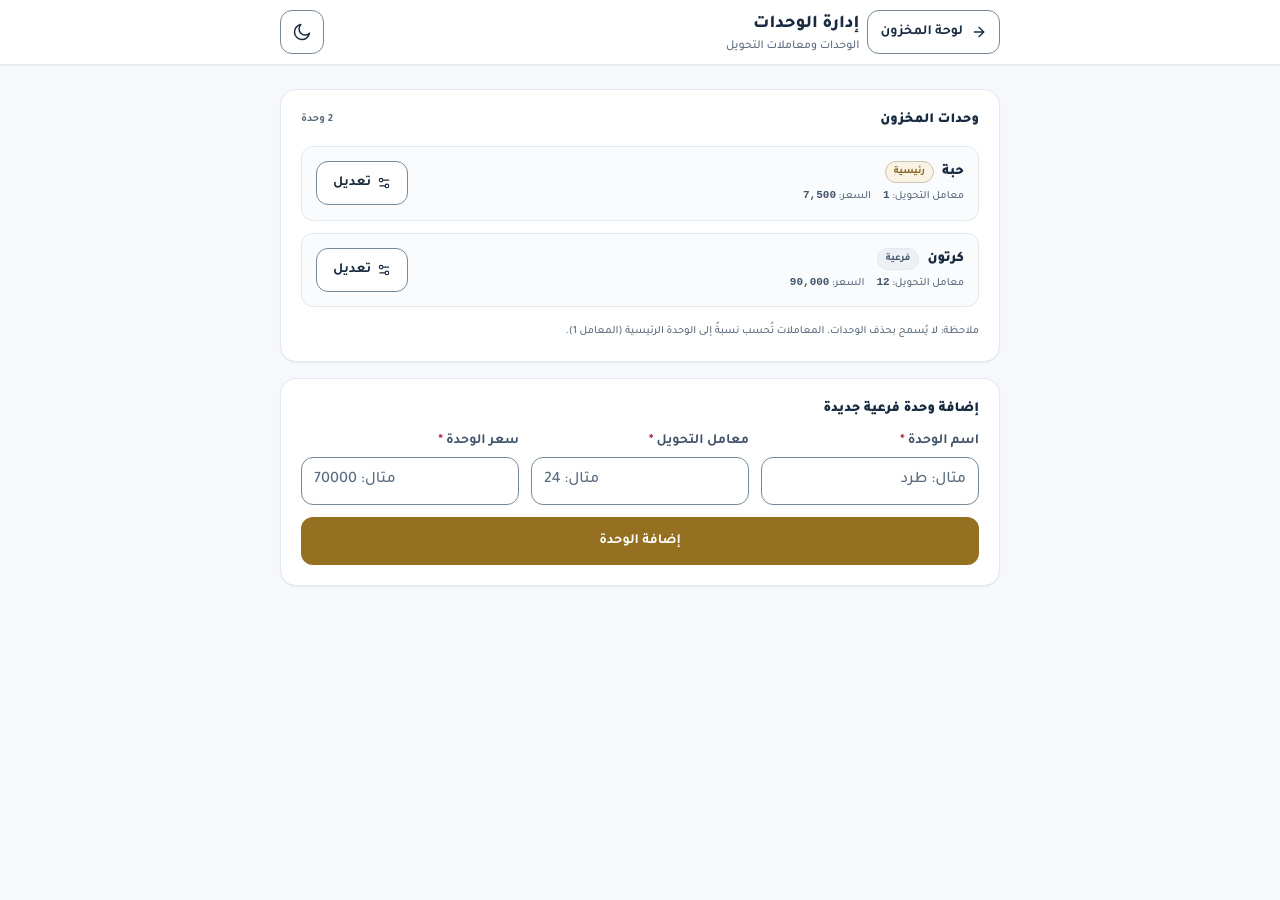
Test case: StockUnitsPage — إضافة وحدة فرعية › يعرض خطأ تكرار الاسم 1609 من الخادم
This screenshot has width=1280, height=900.
expect the heading "إضافة وحدة فرعية جديدة" is shown: met, box top-left (823, 402), bottom-right (979, 416)
Type "طرد" into the field with placeholder "مثال: طرد" at (870, 481), box top-left (761, 457), bottom-right (979, 505)
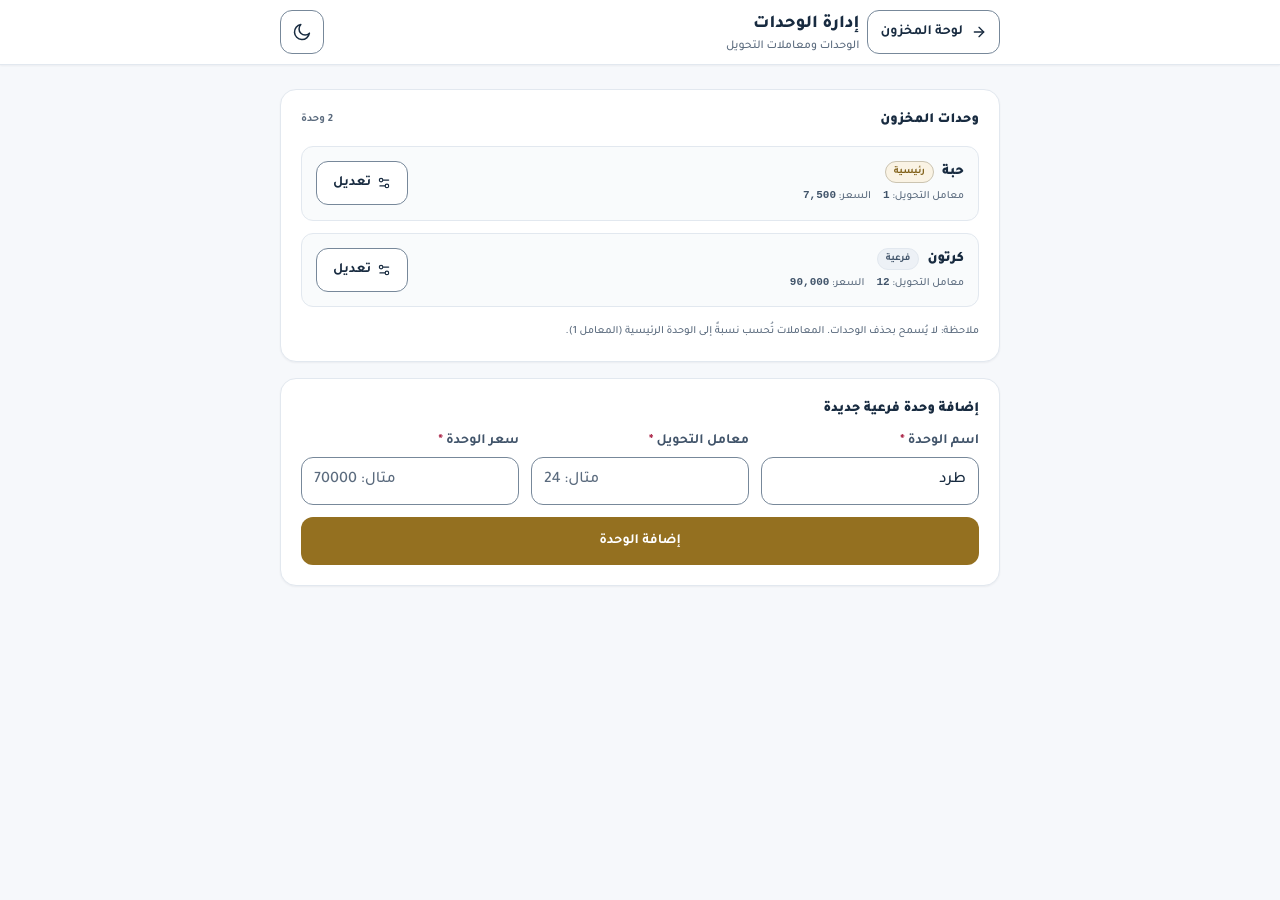
Type "24" into the field with placeholder "مثال: 24" at (640, 481), box top-left (531, 457), bottom-right (749, 505)
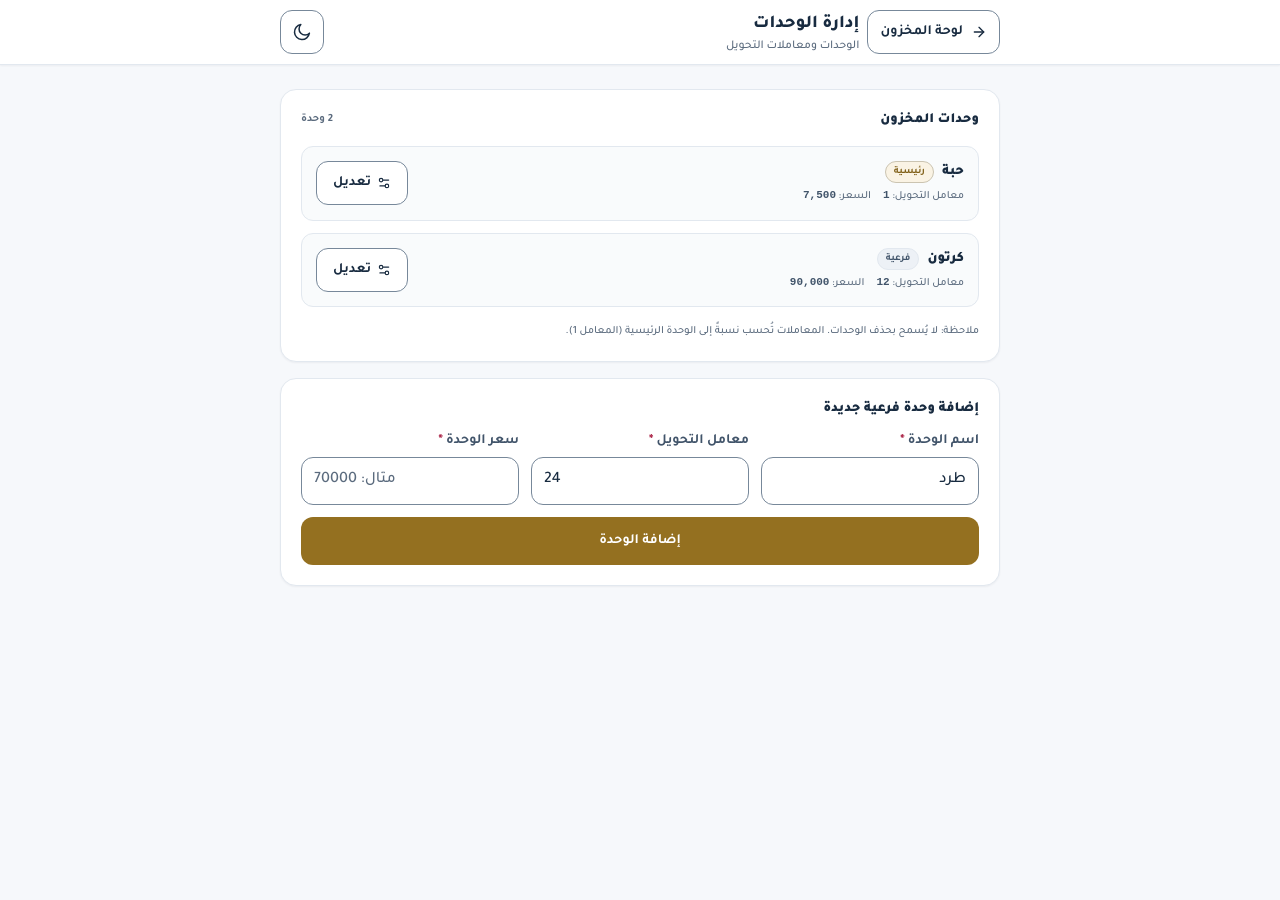
Type "150000" into the number field with placeholder "مثال: 70000" at (410, 481), box top-left (301, 457), bottom-right (519, 505)
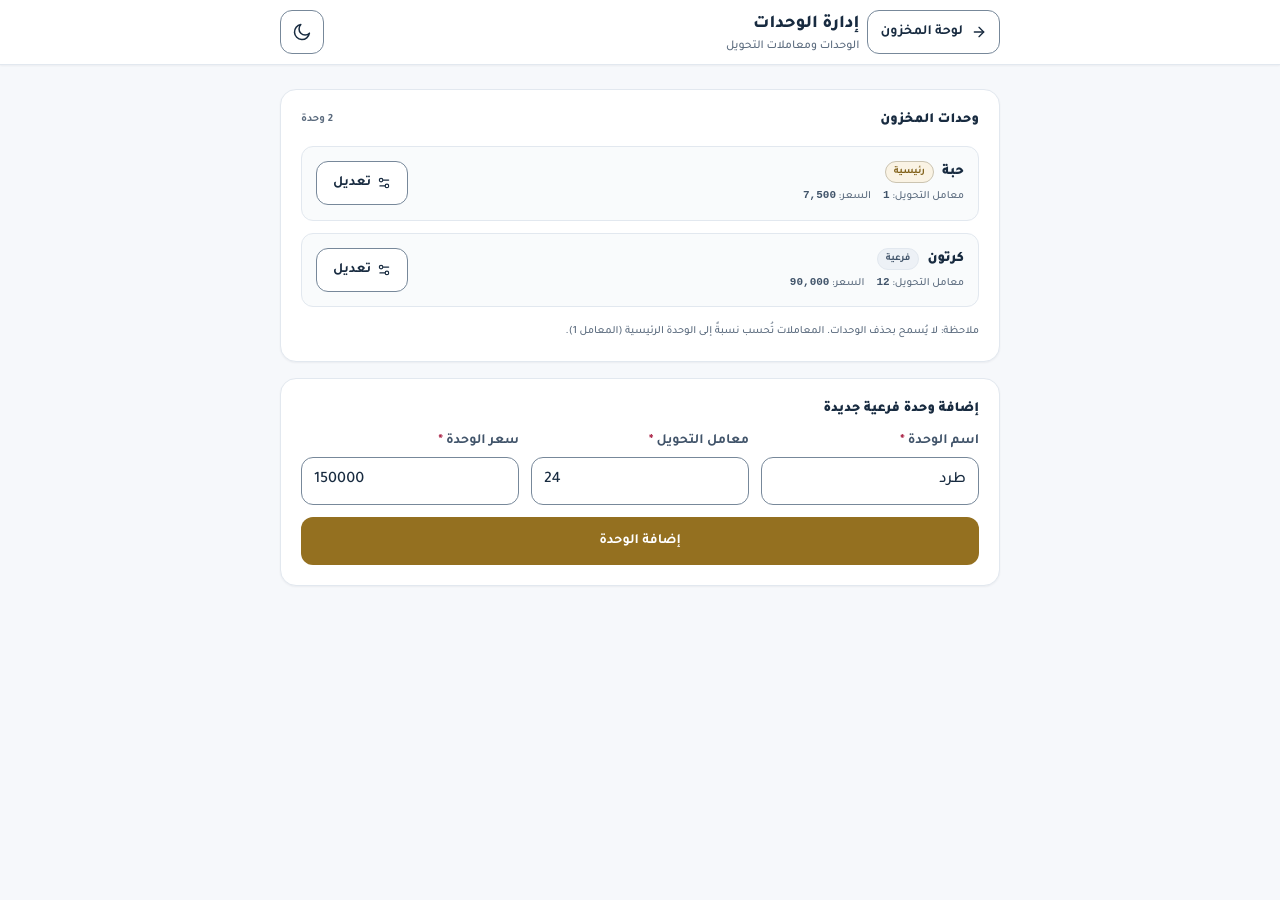
Click the button "إضافة الوحدة" at (640, 541), box top-left (301, 517), bottom-right (979, 565)
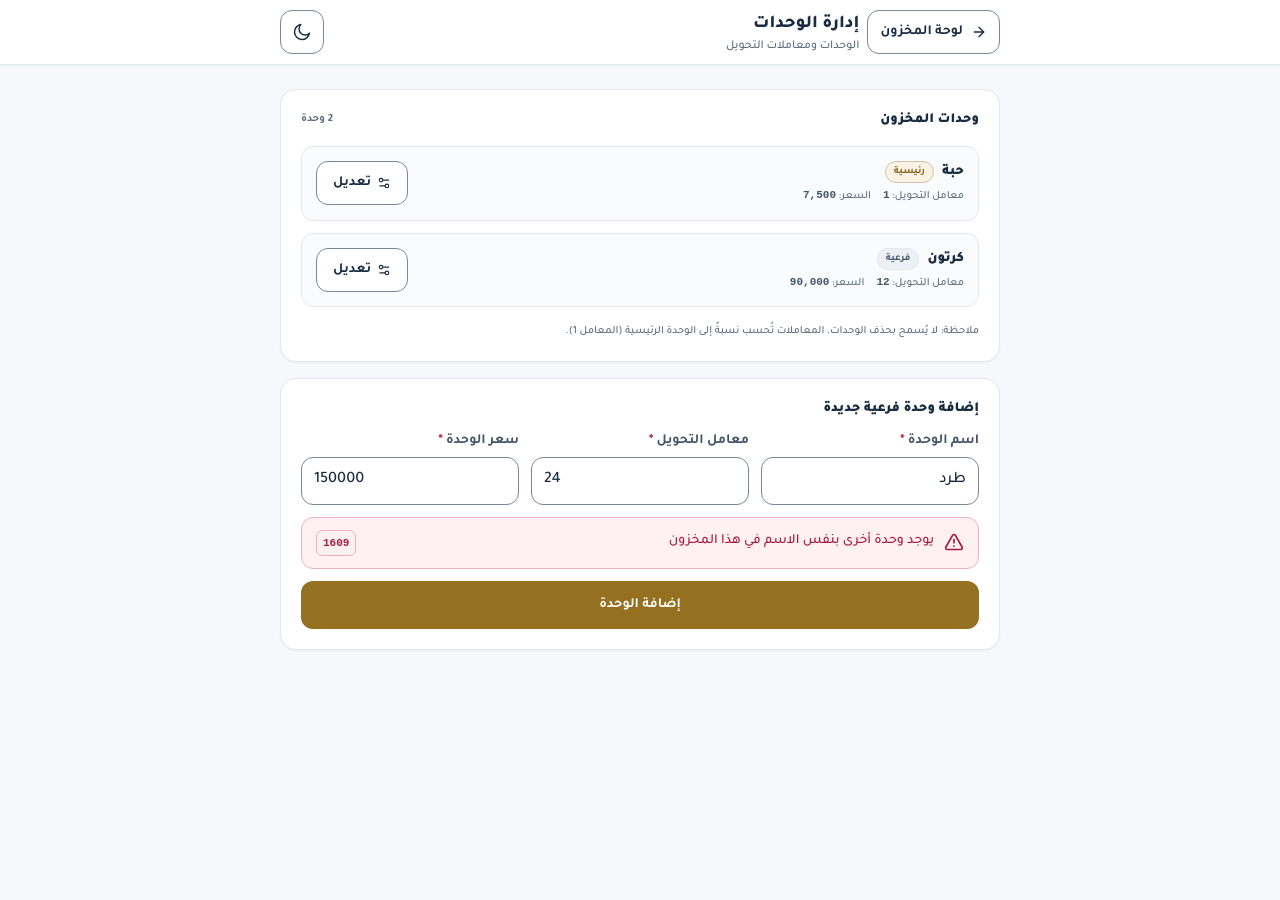
expect the text "يوجد وحدة أخرى بنفس الاسم في هذا المخزون" is shown: met, box top-left (669, 534), bottom-right (934, 548)
